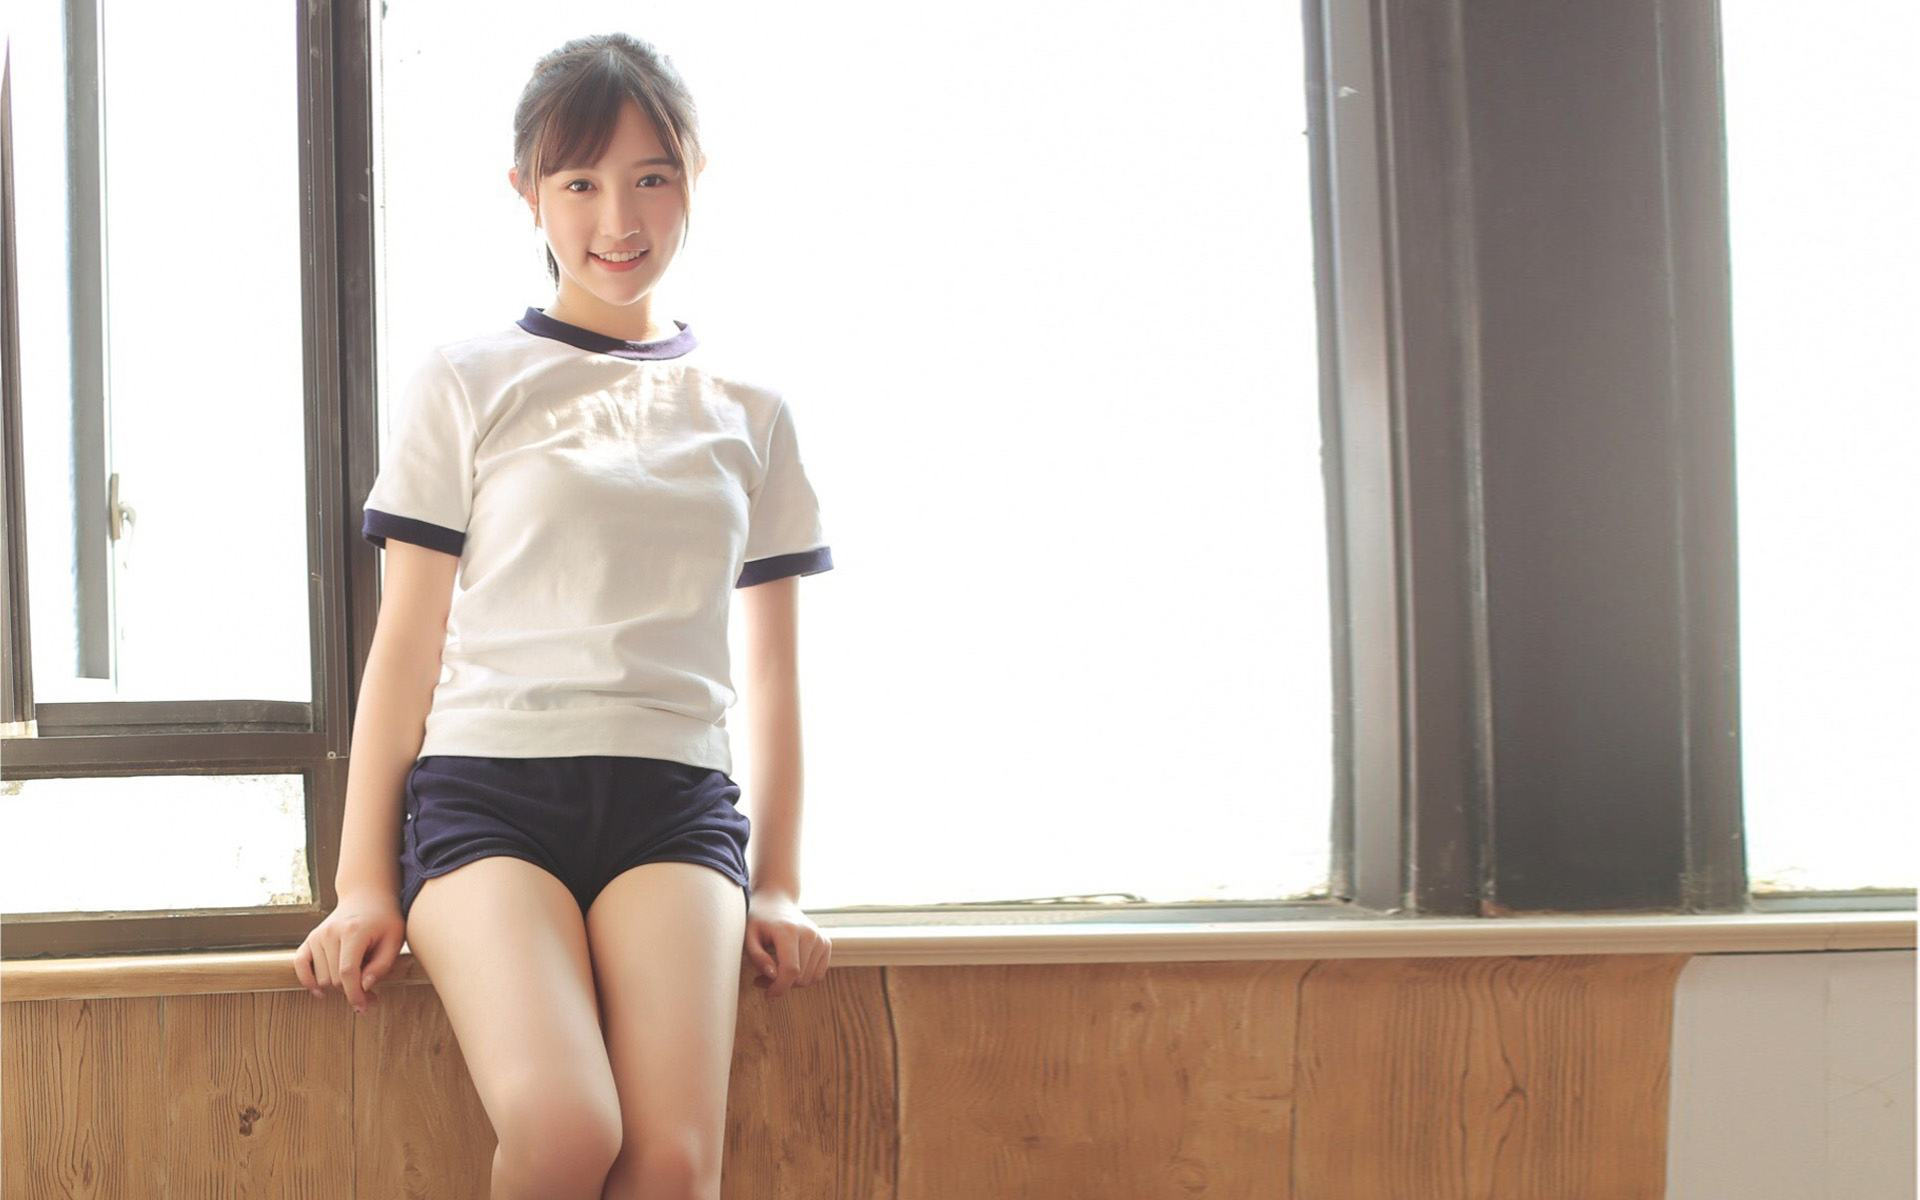person: (254, 29, 979, 1094)
